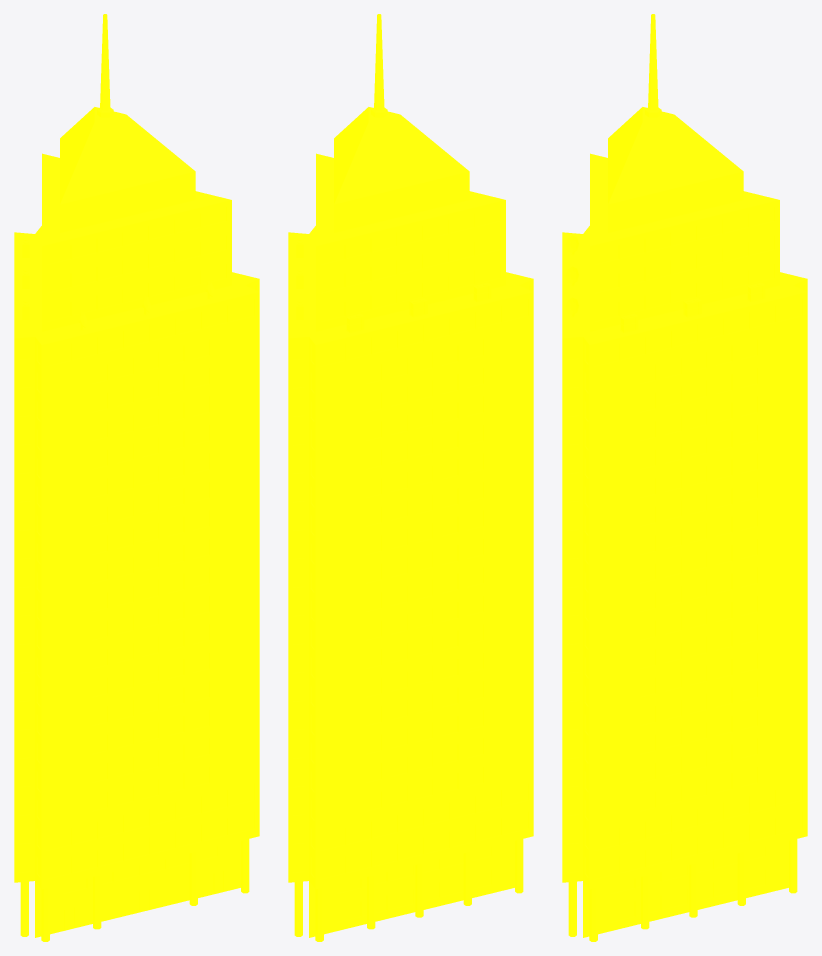
Rendered from building-skyscraper.glb.
The picture shows the model from 3 angles, left to right: view 1: azimuth 30°, elevation 25°; view 2: azimuth 150°, elevation 25°; view 3: azimuth 270°, elevation 25°; orthographic projection.
Parts seen in each view (by area): view 1: building-skyscraper; view 2: building-skyscraper; view 3: building-skyscraper.
Part boxes in pixels (<box>): building-skyscraper: <box>14,14,259,941</box>; building-skyscraper: <box>288,14,533,941</box>; building-skyscraper: <box>562,14,807,941</box>.
Size of the model in its own units: 27 by 91.8 by 23.38.
Materials: 1 (1 with a texture image).
